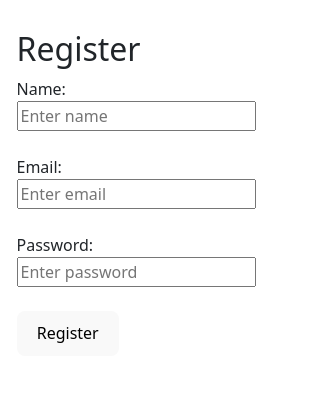
Test: Register component › Should show success message, When register process successfully completed
// Using userEvent, Updating values of the input fields
Type "shashank" into the field with test id "name" at (136, 116), box 16,101 -> 256,131
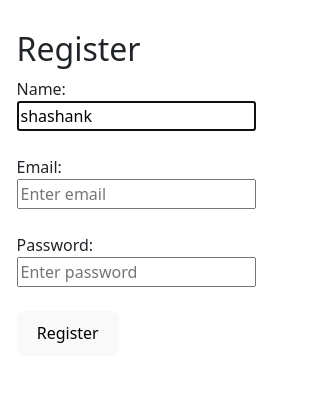
Type "shashank@test.com" into the field with test id "email" at (136, 194), box 16,179 -> 256,209
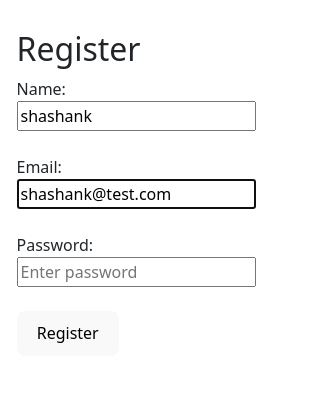
Type "shashank" into the password field with test id "password" at (136, 272), box 16,257 -> 256,287
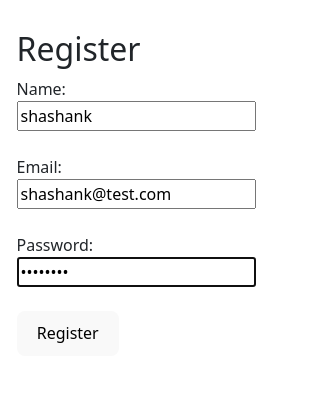
// Using userEvent, It will try to process click event on this button
Click the button "Register" at (68, 333), box 16,311 -> 119,356
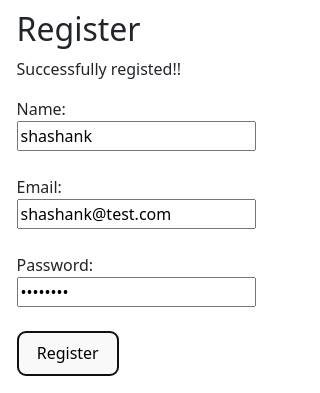
Check: the text "Successfully registed!!" is shown, box 16,58 -> 181,80
